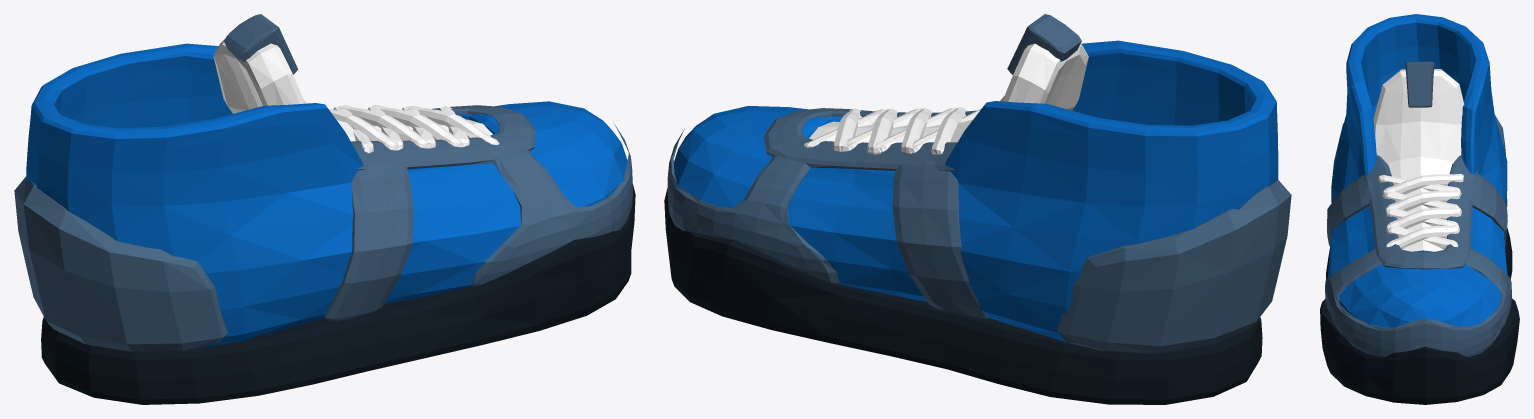
Rendered from RightJumpShoe.glb.
3 views of the same model, side by side, from view 1: azimuth 30°, elevation 25°; view 2: azimuth 150°, elevation 25°; view 3: azimuth 270°, elevation 25° (orthographic). The views are drawn at different scales.
Visible parts, largest first — view 1: Shoes; view 2: Shoes; view 3: Shoes.
Boxes of the visible parts, x1,y1,x2,y2 form: Shoes: [14, 14, 635, 404]; Shoes: [664, 14, 1291, 404]; Shoes: [1320, 14, 1519, 404].
Size of the model in its own units: 27.12 by 13.34 by 10.93.
1 material, 1 textured.
